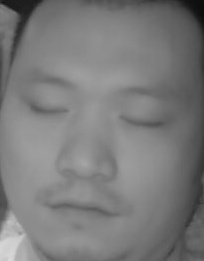blink: (116, 111, 164, 133), (28, 98, 67, 119)
mouth: (45, 186, 121, 229)
